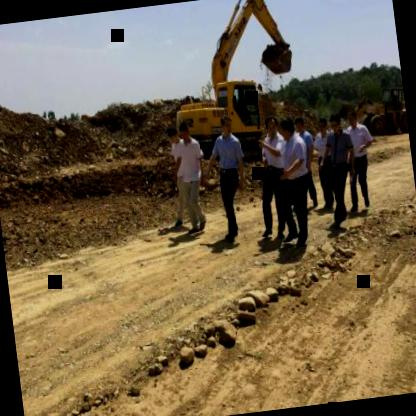head: (278, 110, 297, 142), (263, 110, 280, 140), (326, 111, 344, 135), (218, 112, 235, 136), (177, 119, 193, 143), (346, 106, 361, 130), (315, 113, 330, 135), (165, 122, 179, 144), (294, 113, 308, 134)
